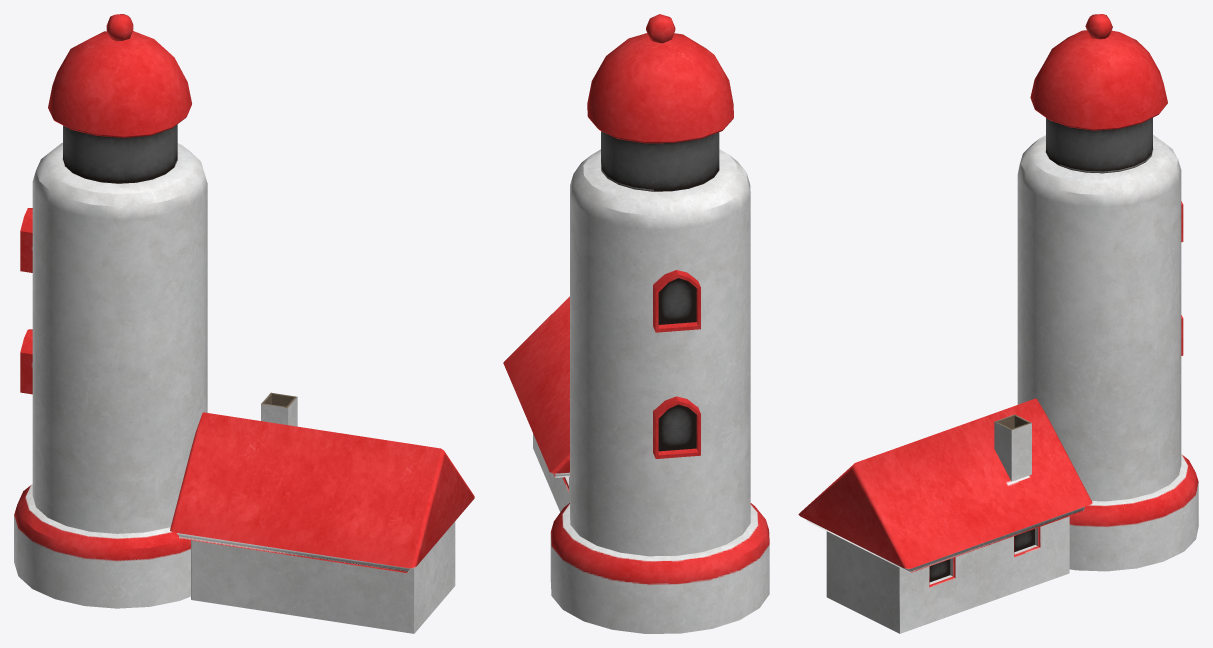
Rendered from GB_Lighthouse_Minor_04.fbx.
3 views of the same model, side by side, from view 1: azimuth 30°, elevation 25°; view 2: azimuth 150°, elevation 25°; view 3: azimuth 270°, elevation 25° (orthographic). The views are drawn at different scales.
Visible parts, largest first — view 1: polySurface111; view 2: polySurface111; view 3: polySurface111.
Part boxes in pixels (<box>): polySurface111: <box>14,14,474,633</box>; polySurface111: <box>503,14,769,633</box>; polySurface111: <box>798,14,1198,633</box>.
Size of the model in its own units: 174 by 265 by 187.
